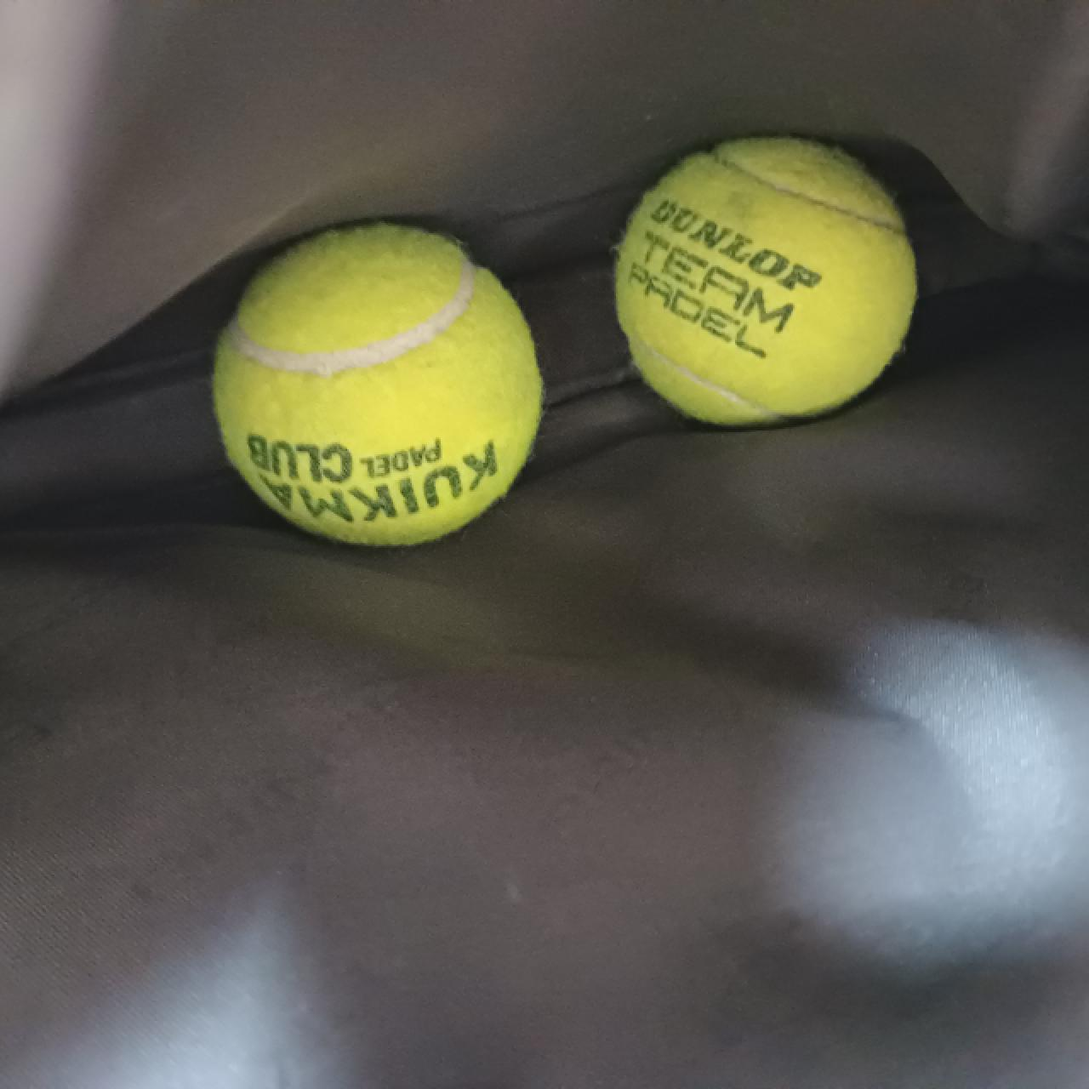tennis-ball: (210, 218, 543, 548), (616, 138, 917, 432)
